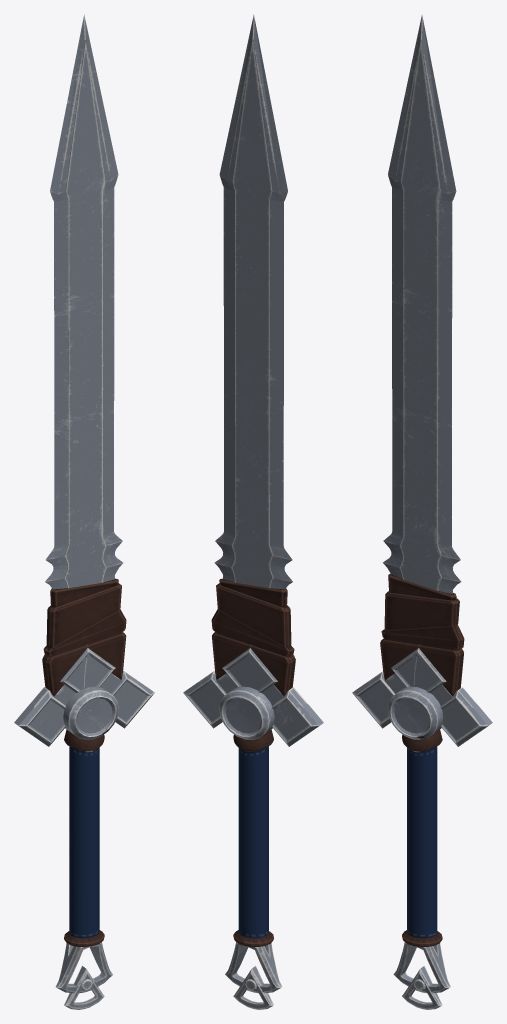
File: sword2.obj
3 views of the same model, side by side, from view 1: azimuth 30°, elevation 25°; view 2: azimuth 150°, elevation 25°; view 3: azimuth 330°, elevation 25° (orthographic).
Parts seen in each view (by area): view 1: Sword_Mesh; view 2: Sword_Mesh; view 3: Sword_Mesh.
Part boxes in pixels (x1,y1,x2,y2): Sword_Mesh: (14,14,154,1009); Sword_Mesh: (183,14,323,1009); Sword_Mesh: (352,14,492,1009).
Bounding box in the file's own units: 1.09 × 7.57 × 0.3194.
Materials: 1 (1 with a texture image).
